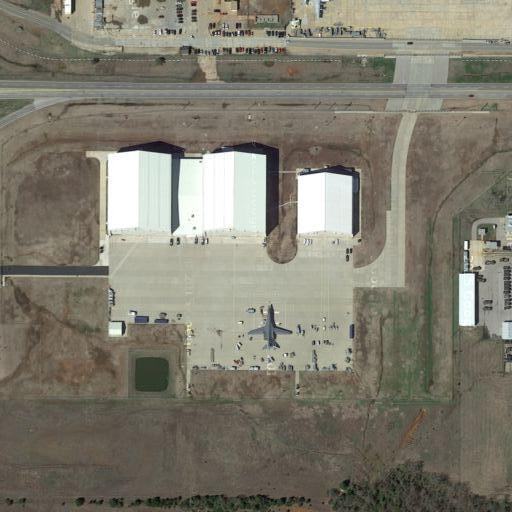B-1B: (245, 299, 295, 351)
